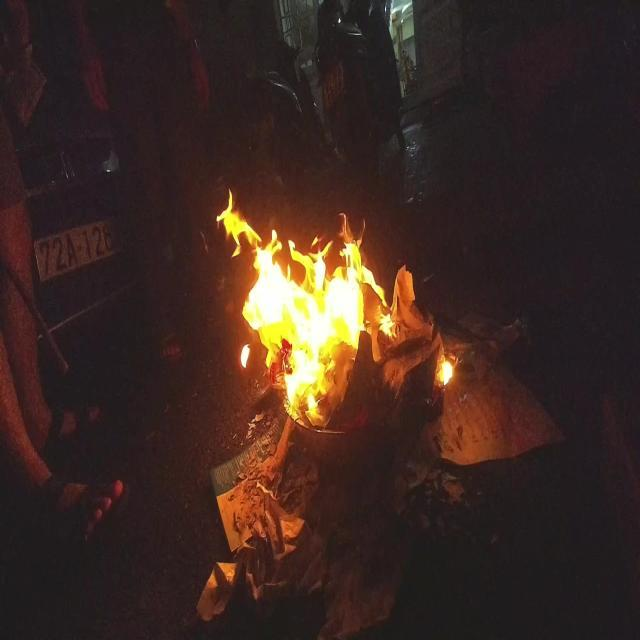Fire: (216, 185, 398, 418), (436, 358, 454, 390)
